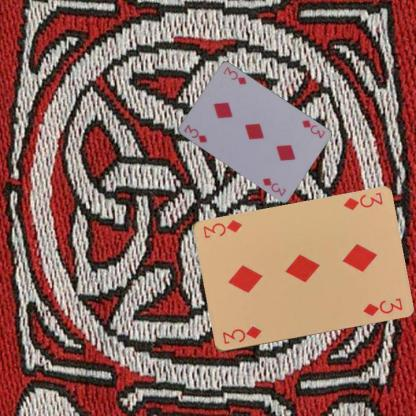3d: (340, 190, 384, 212), (220, 324, 262, 346), (299, 117, 326, 140), (181, 122, 208, 144)
